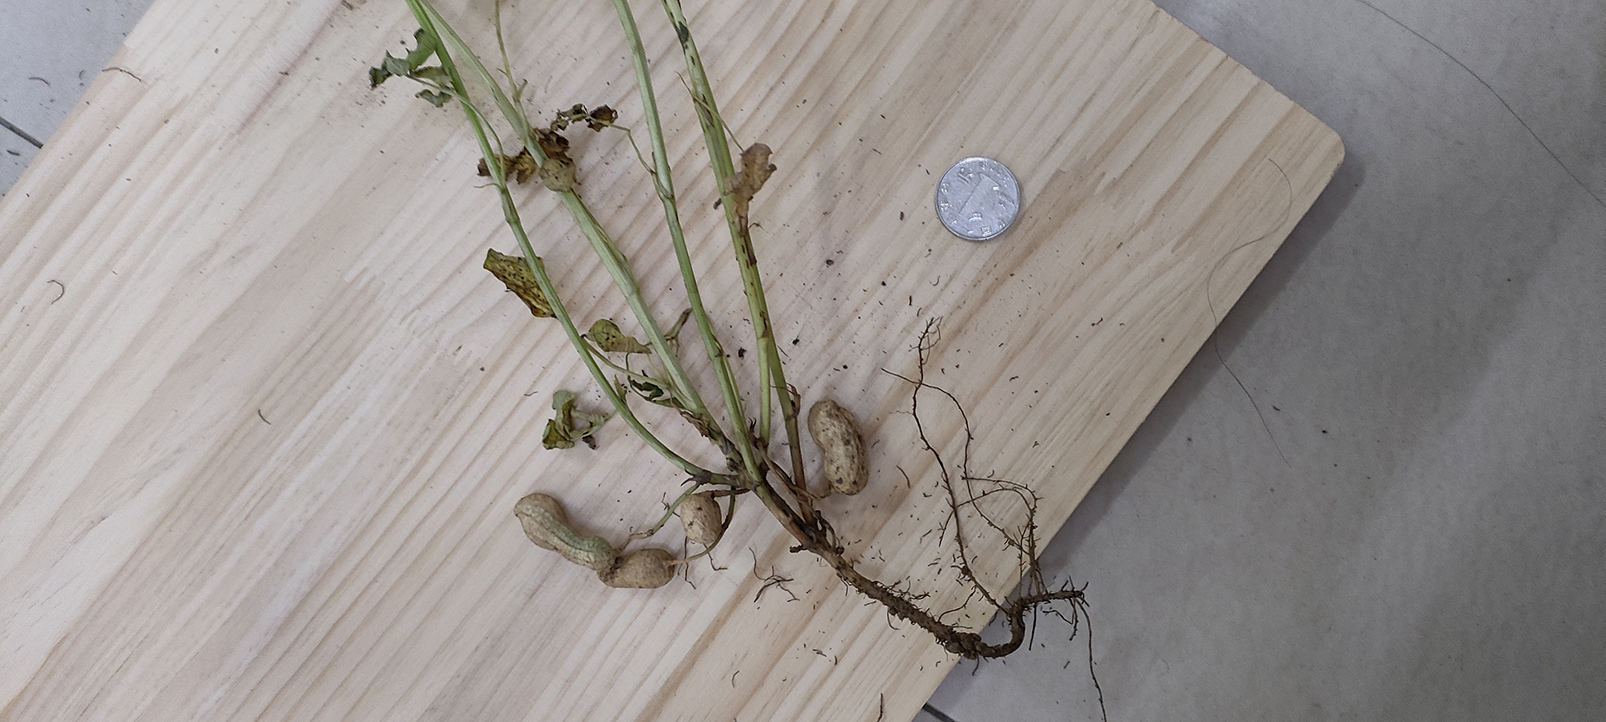h: (515, 496, 616, 575), (807, 400, 867, 493), (602, 549, 677, 587), (677, 494, 722, 542)
